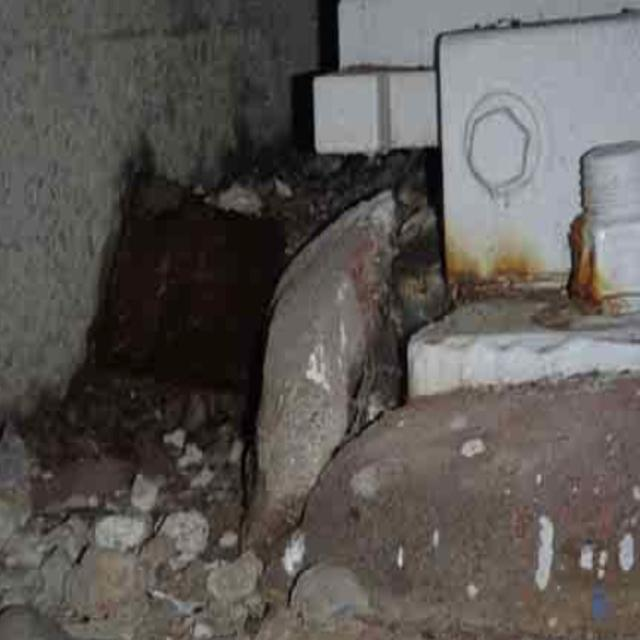corrosion: (436, 194, 616, 306)
